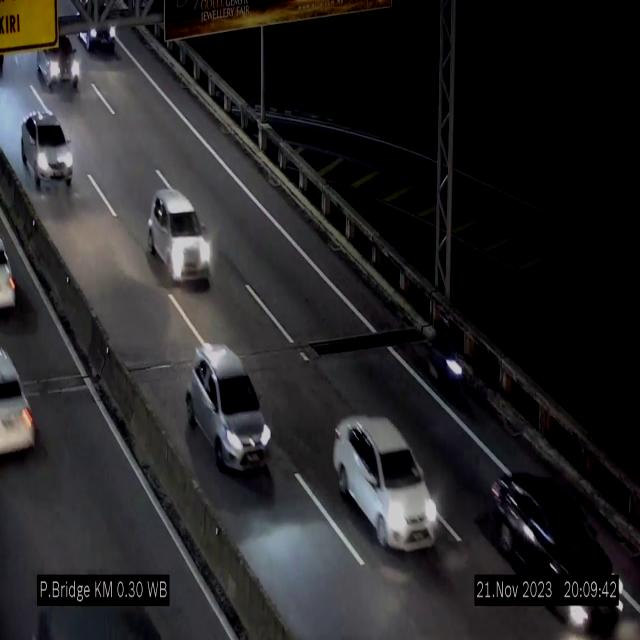Car: (483, 448, 629, 640), (333, 416, 438, 550), (186, 345, 272, 469), (0, 318, 46, 472), (147, 188, 211, 286), (22, 112, 73, 190), (36, 20, 84, 97), (0, 211, 24, 326), (79, 0, 119, 63)
Motorcycle: (424, 310, 464, 403)
